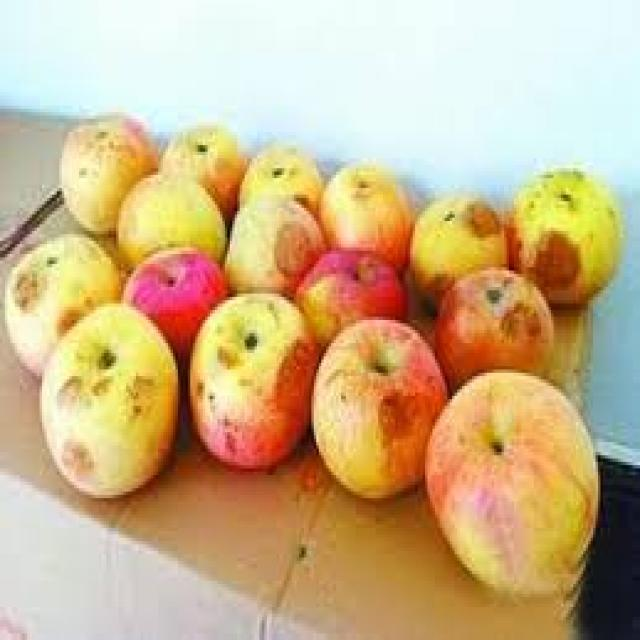organic waste: (423, 366, 598, 594), (40, 304, 180, 498), (306, 310, 448, 498), (188, 287, 314, 465), (2, 231, 124, 376), (504, 168, 618, 307), (435, 264, 553, 392), (119, 244, 222, 366), (289, 244, 405, 350), (57, 116, 158, 234), (114, 165, 227, 270), (408, 191, 507, 310), (314, 158, 410, 268), (220, 191, 321, 294), (158, 126, 242, 214), (237, 145, 321, 208)
